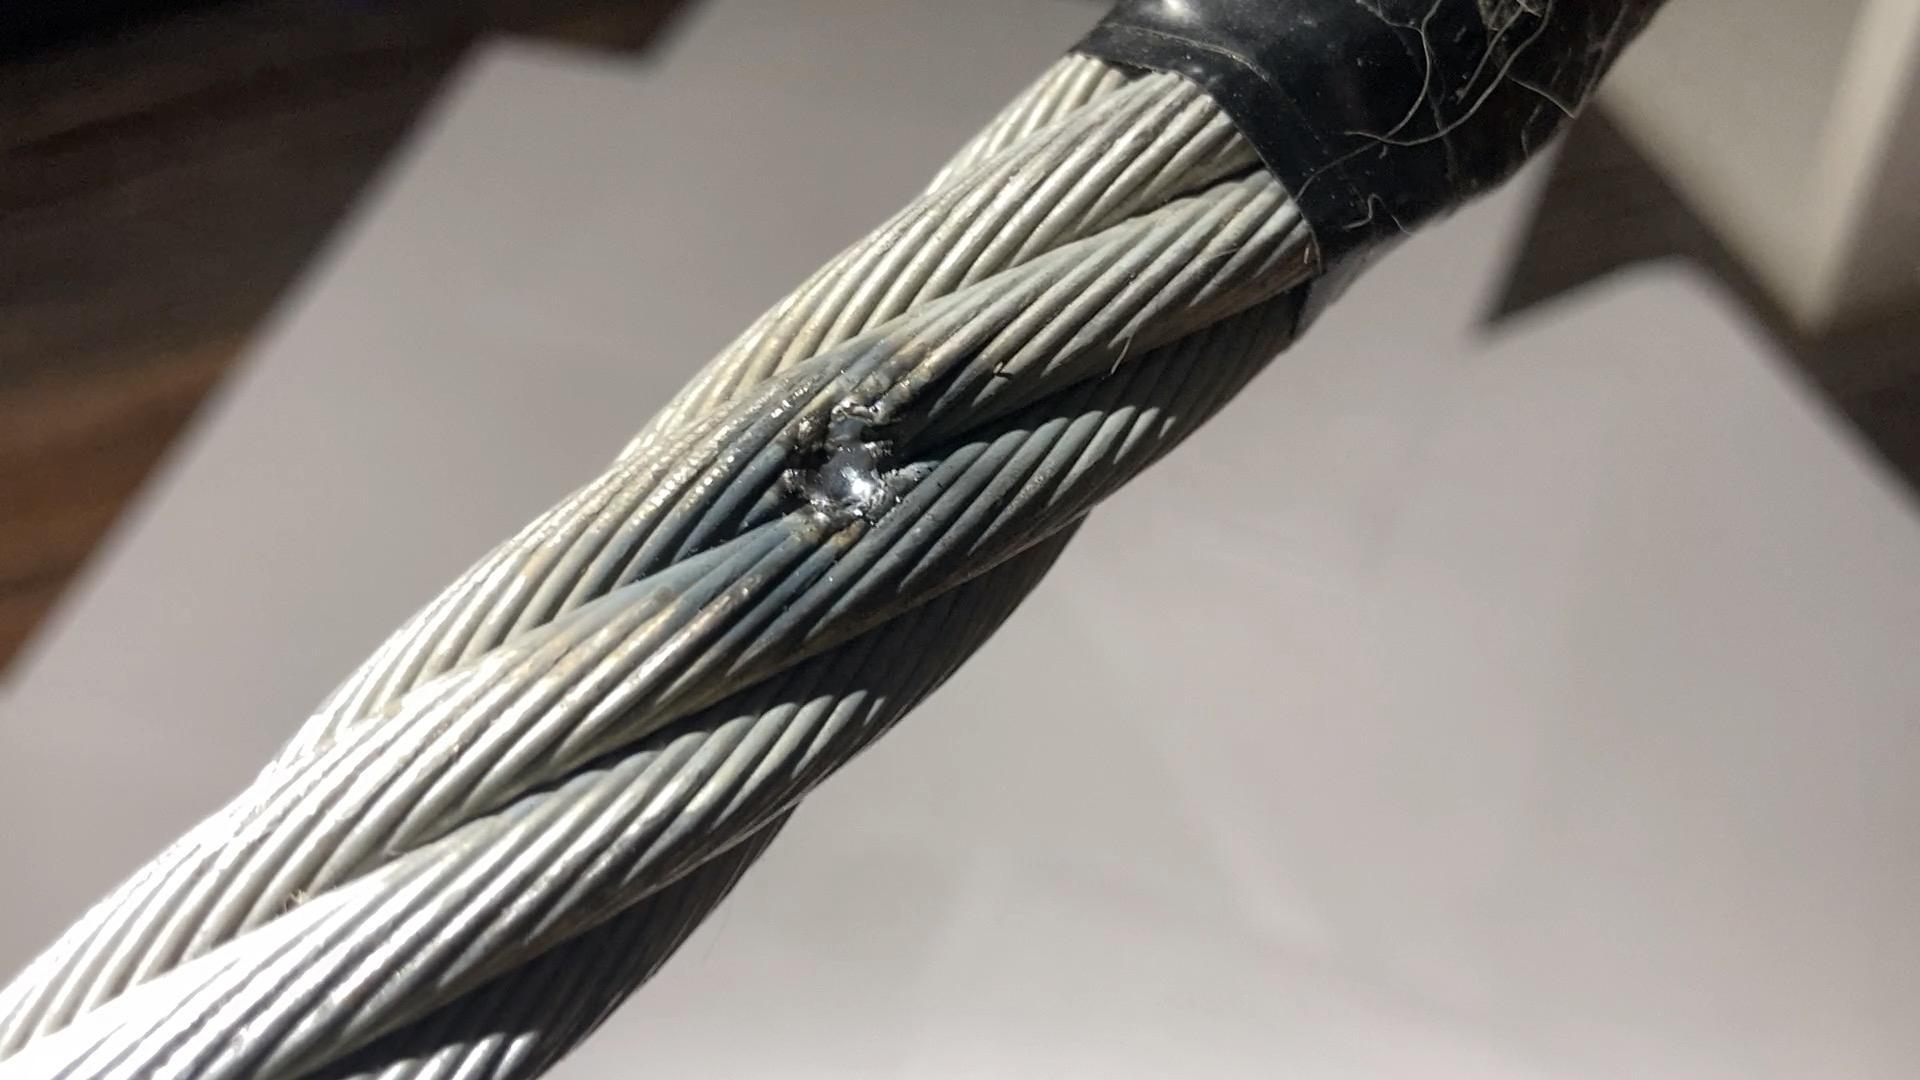thunderbolt: (771, 338, 951, 514)
